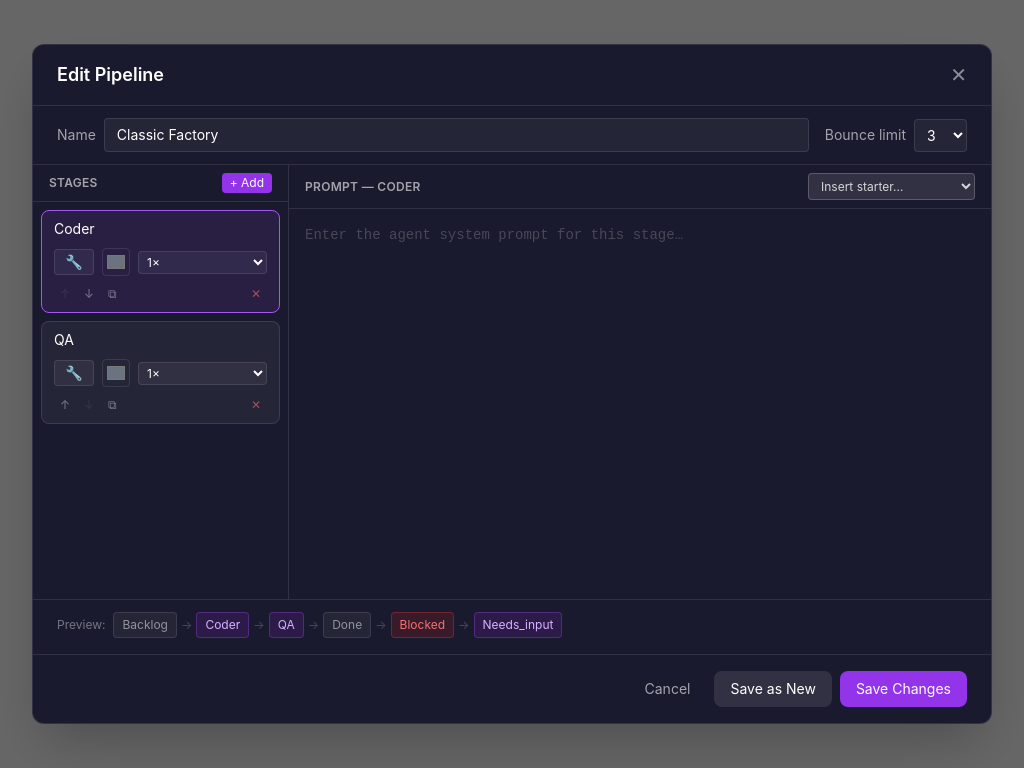
it: stage CRUD › deletes a stage without a prompt immediately
Click the button named "delete stage": (256, 294) left=245, top=284, right=267, bottom=304
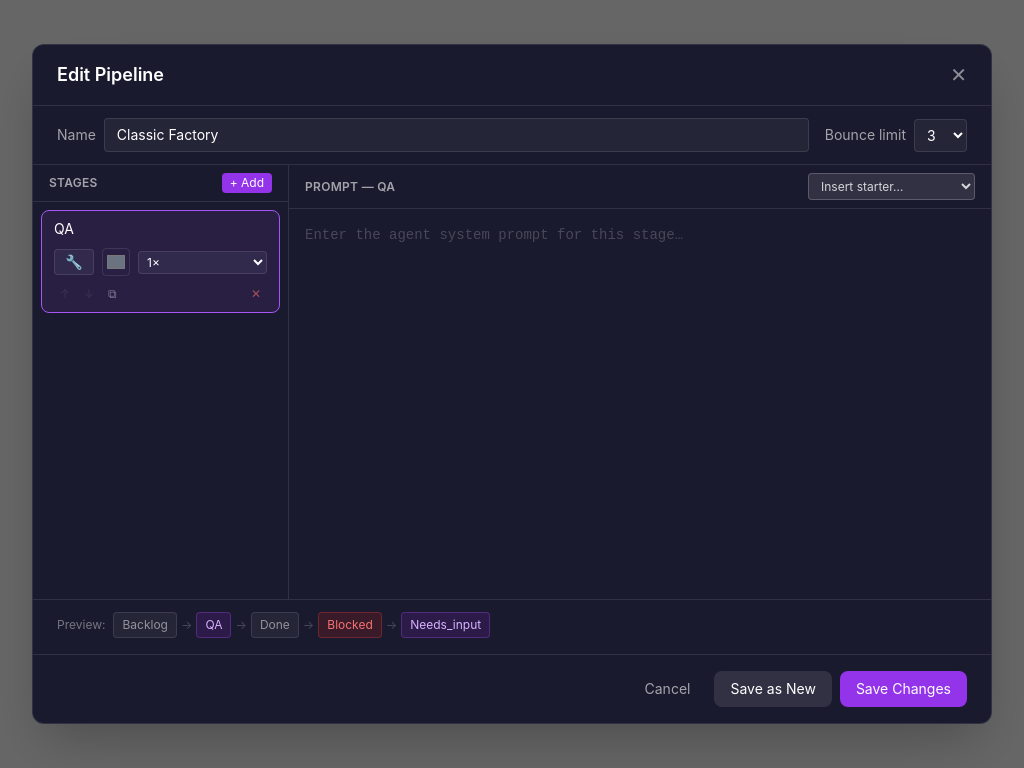
Result: the number of fields named "Stage name" is 1 at left=54, top=219, right=267, bottom=240
Result: the field named "Stage name" holds "QA" at left=54, top=219, right=267, bottom=240
